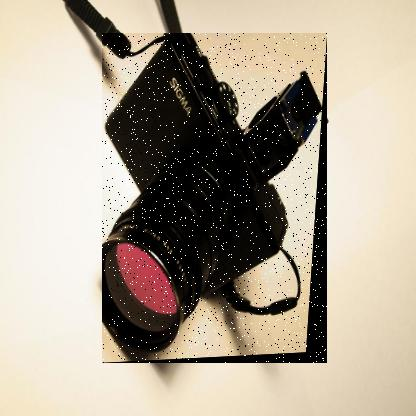Camera: (103, 34, 329, 365)
